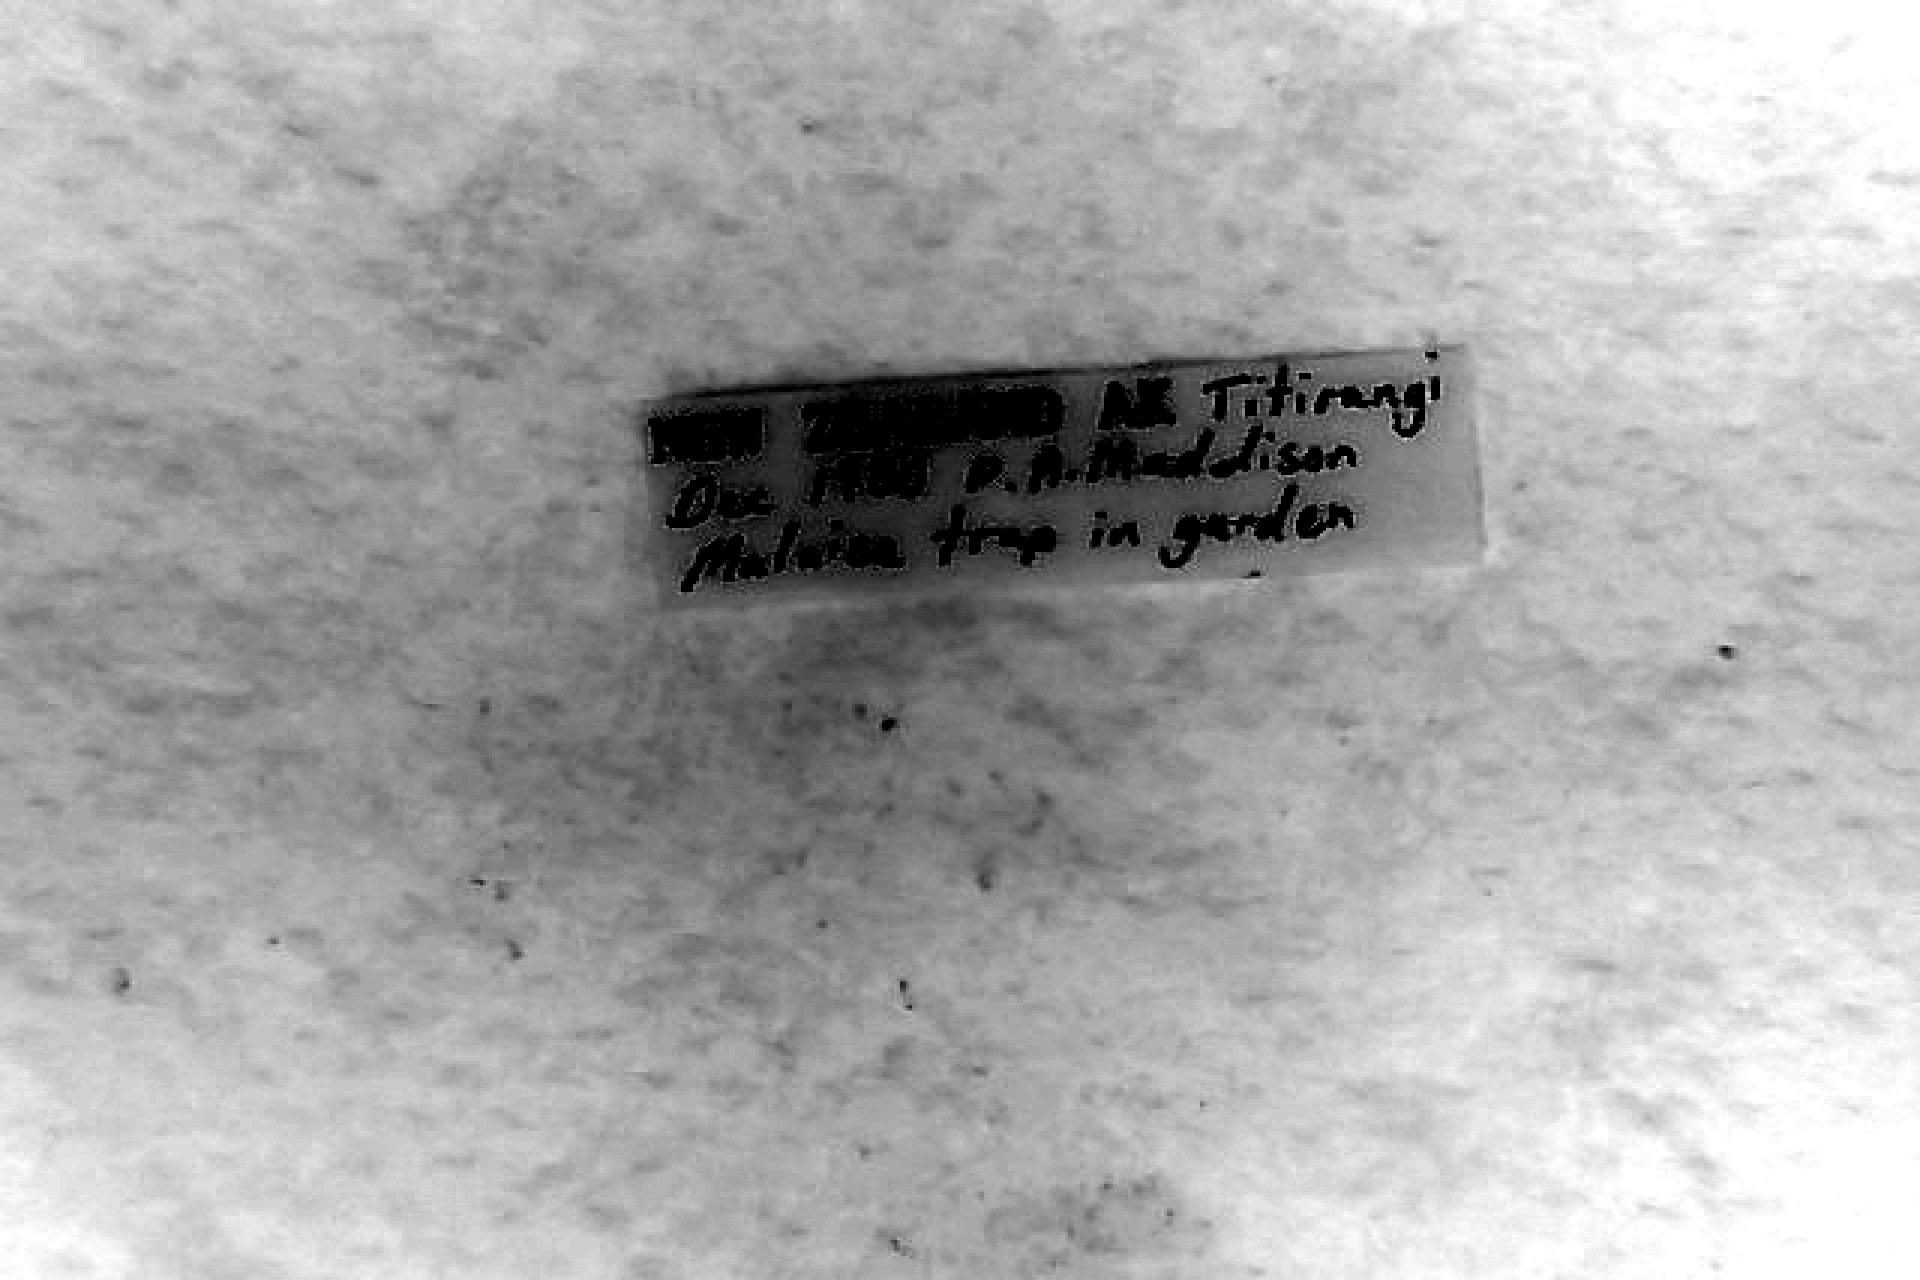mixed_label: (649, 347, 1481, 593)
